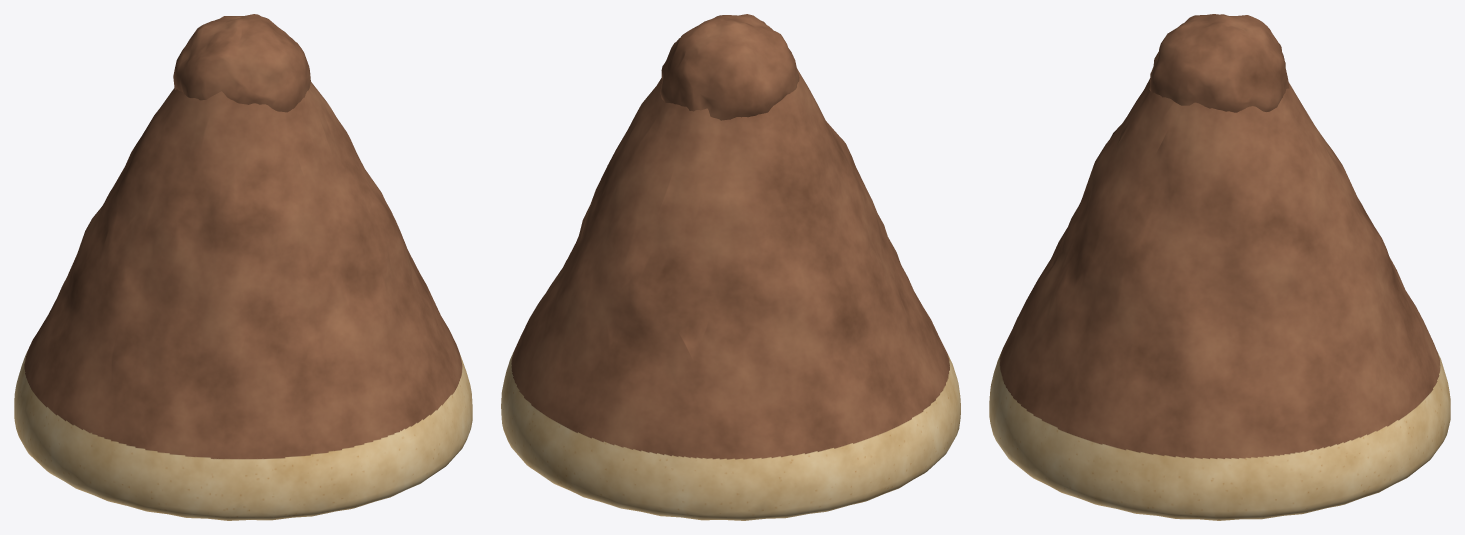
The model's file is Snack_Takenoko.fbx.
The picture shows the model from 3 angles, left to right: view 1: azimuth 30°, elevation 25°; view 2: azimuth 150°, elevation 25°; view 3: azimuth 270°, elevation 25°; orthographic projection.
Visible parts, largest first — view 1: Snack_Takenoko; view 2: Snack_Takenoko; view 3: Snack_Takenoko.
Boxes of the visible parts, bbox=[...] form: Snack_Takenoko: bbox=[14, 14, 472, 520]; Snack_Takenoko: bbox=[501, 14, 960, 520]; Snack_Takenoko: bbox=[989, 14, 1450, 520].
Bounding box in the file's own units: 199 × 201 × 199.
